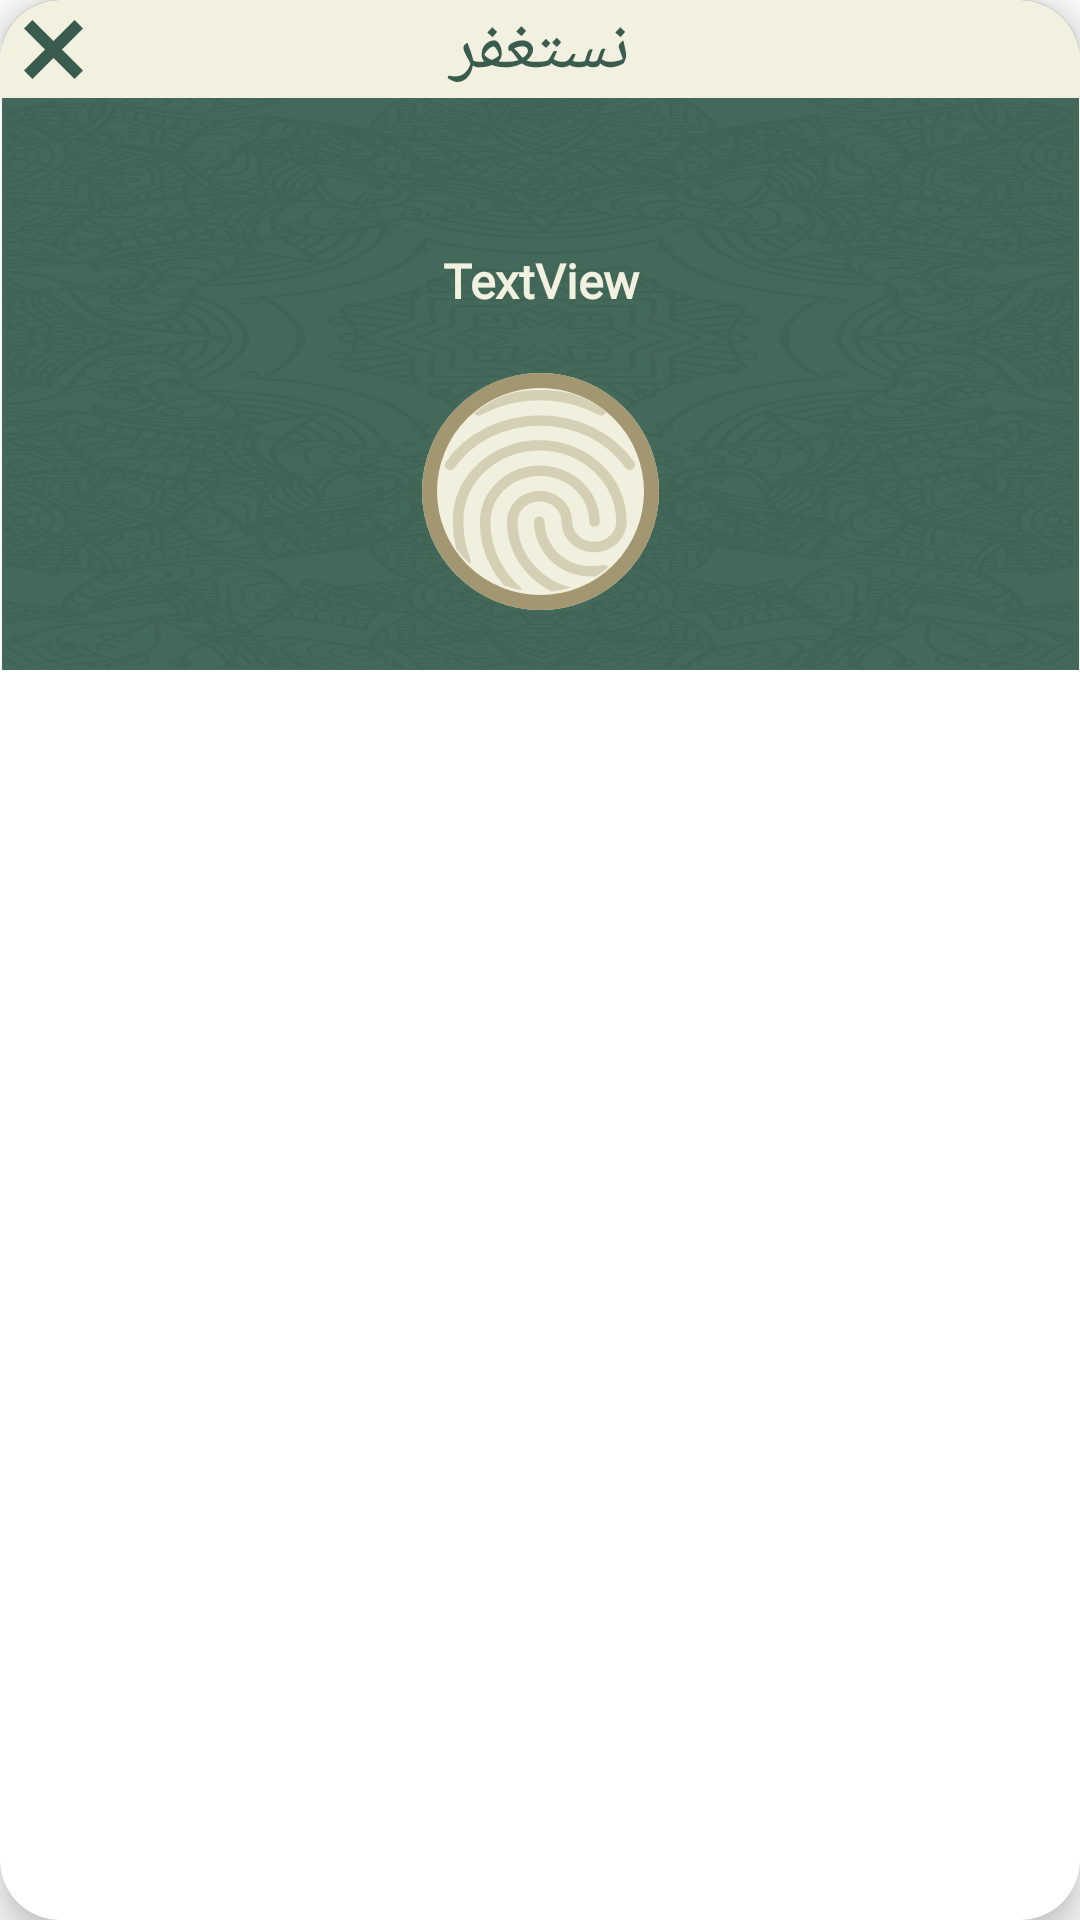

Point at icon controls on the screen. Image size 1080px×1920px, points as [x,y].
exit: [53,49]
fingerprint: [540,491]
